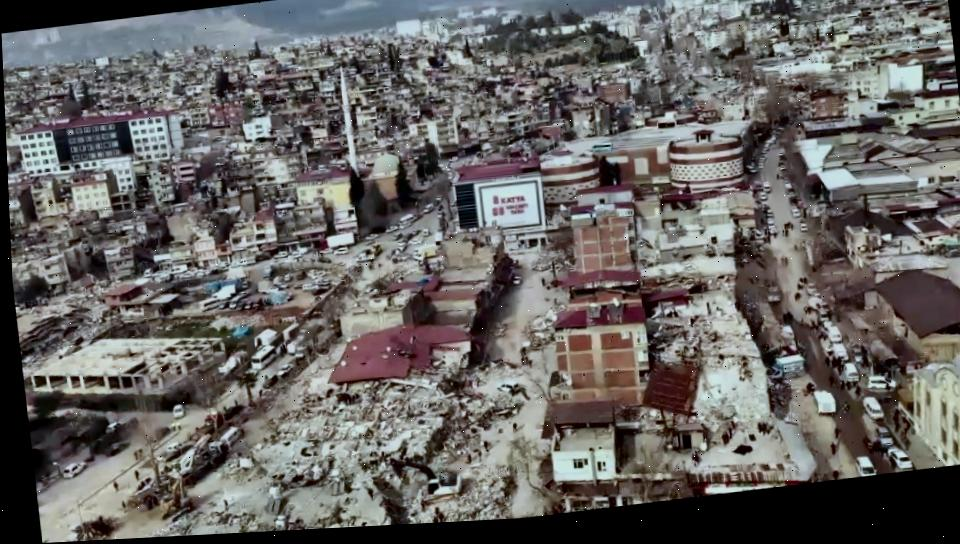kapali: (405, 293, 568, 524)
